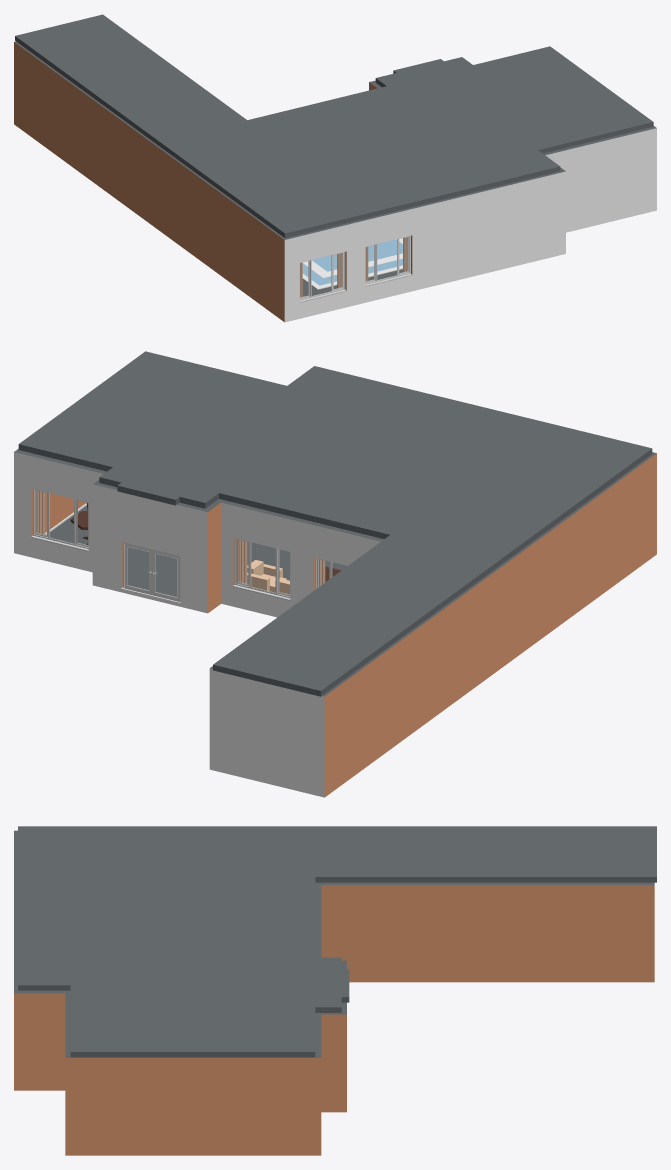
Rendered from Simple_Room.fbx.
3 views of the same model, one above another, from view 1: azimuth 30°, elevation 25°; view 2: azimuth 150°, elevation 25°; view 3: azimuth 270°, elevation 25° (orthographic). The views are drawn at different scales.
Visible parts, largest first — view 1: SimpleRoom, Prop_Rug_01, Window, Window.001; view 2: SimpleRoom, Window.003, Window.004, Prop_Couch_04.001; view 3: SimpleRoom.
Part boxes in pixels (x1=…): SimpleRoom: x1=14, y1=14, x2=656, y2=322; Prop_Rug_01: x1=302, y1=238, x2=402, y2=289; Window: x1=299, y1=252, x2=346, y2=302; Window.001: x1=365, y1=236, x2=411, y2=286; SimpleRoom: x1=14, y1=351, x2=656, y2=797; Window.003: x1=233, y1=538, x2=290, y2=600; Window.004: x1=31, y1=489, x2=88, y2=551; Prop_Couch_04.001: x1=247, y1=560, x2=282, y2=590; SimpleRoom: x1=14, y1=826, x2=656, y2=1155.
Size of what is drawn, in the model's own units: 21 by 4.44 by 25.1.
